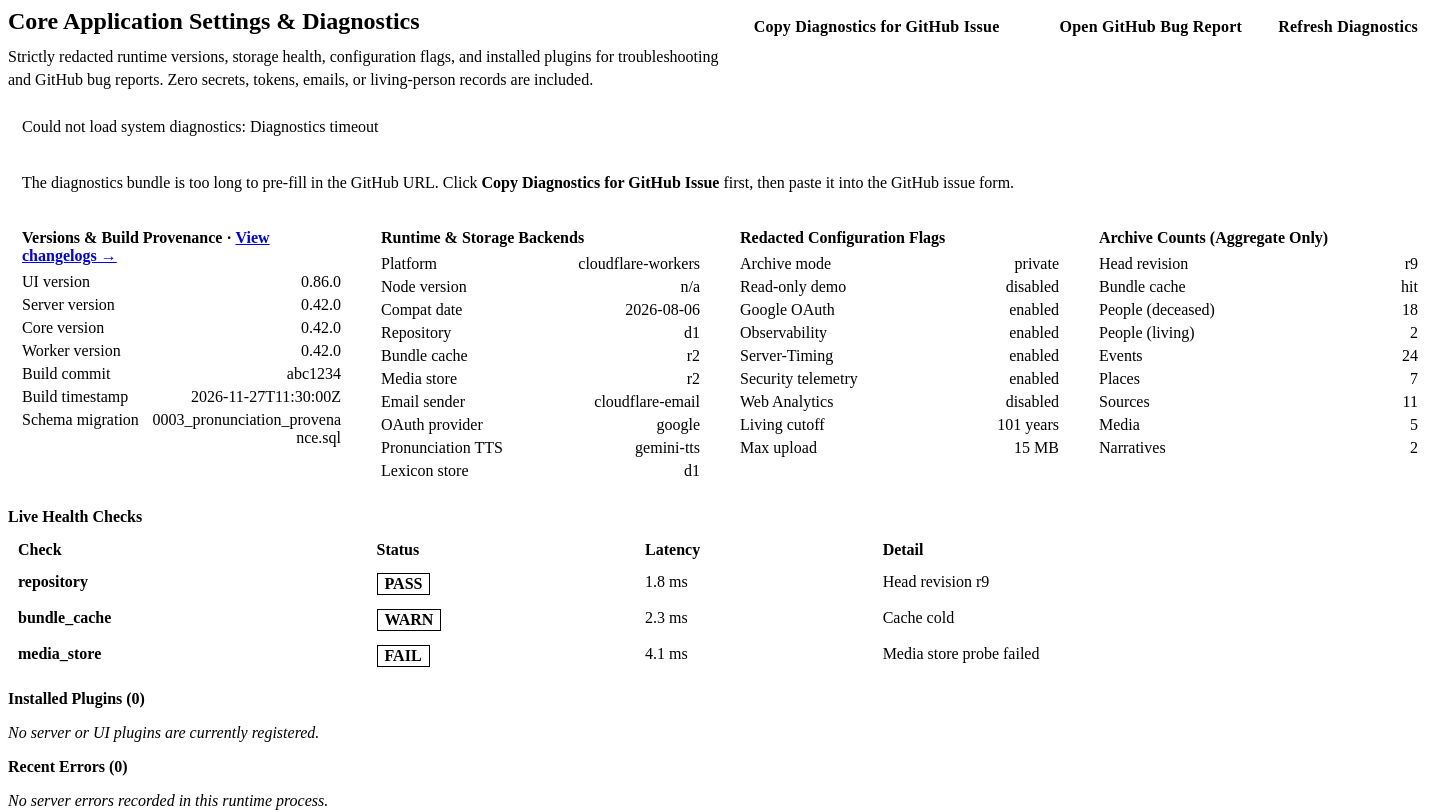
Test: Admin Settings & SystemDiagnosticsSection behavioral flows › handles clipboard failure, long-URL fallback notice, and diagnostics load error cleanly
The width and height of the screenshot is (1440, 810).
Click the button "Copy Diagnostics for GitHub Issue" at (877, 27), box [740, 8, 1014, 46]
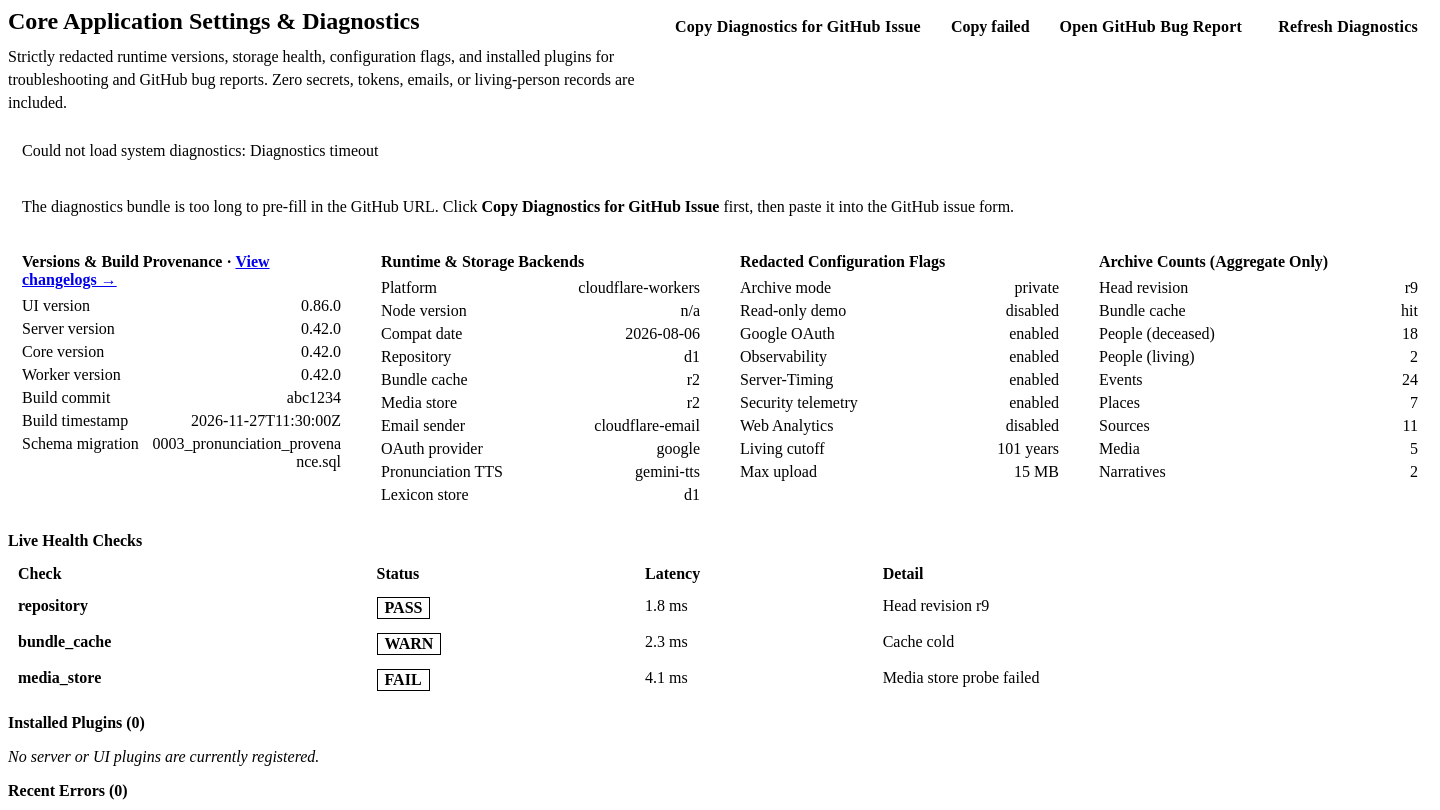
Check: the message "Copy failed" is shown, box [951, 18, 1030, 35]
